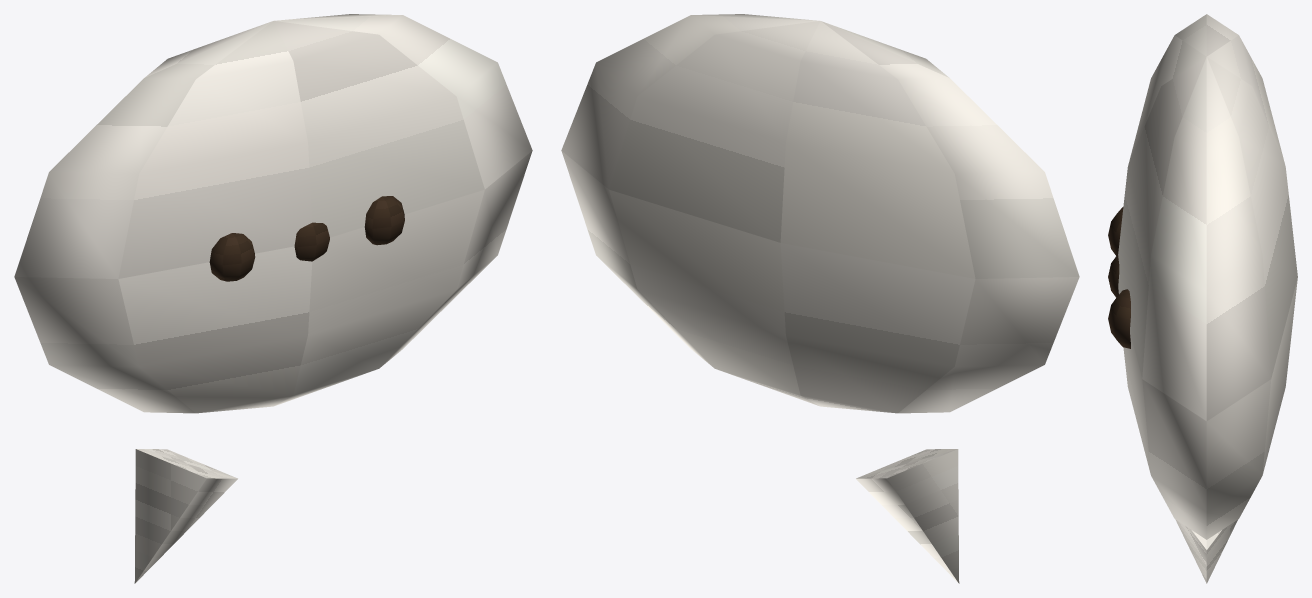
The model's file is globo.glb.
3 views of the same model, side by side, from view 1: azimuth 30°, elevation 25°; view 2: azimuth 150°, elevation 25°; view 3: azimuth 270°, elevation 25° (orthographic). The views are drawn at different scales.
Visible parts, largest first — view 1: globo; view 2: globo; view 3: globo.
Boxes of the visible parts, x1=… form: globo: x1=14, y1=14, x2=532, y2=583; globo: x1=561, y1=14, x2=1079, y2=583; globo: x1=1108, y1=14, x2=1297, y2=583.
Bounding box in the file's own units: 0.9 × 0.8782 × 0.25.
2 materials, 2 textured.
